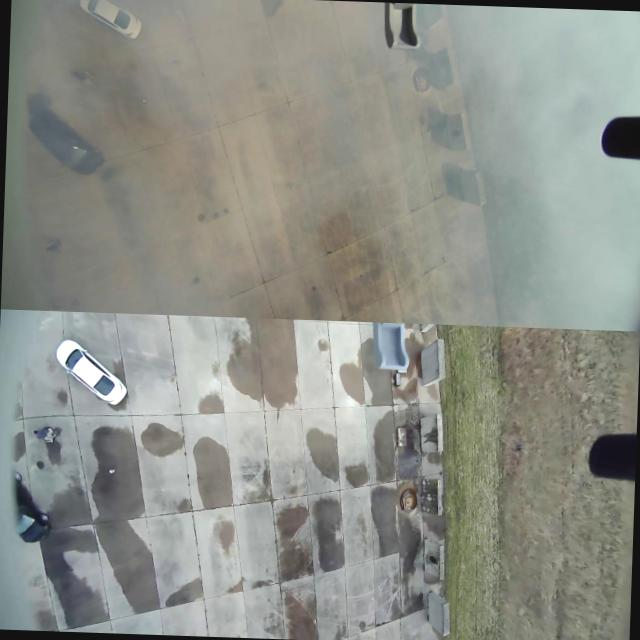car: (26, 101, 110, 186), (51, 337, 129, 404), (66, 0, 153, 48), (10, 505, 51, 546)
